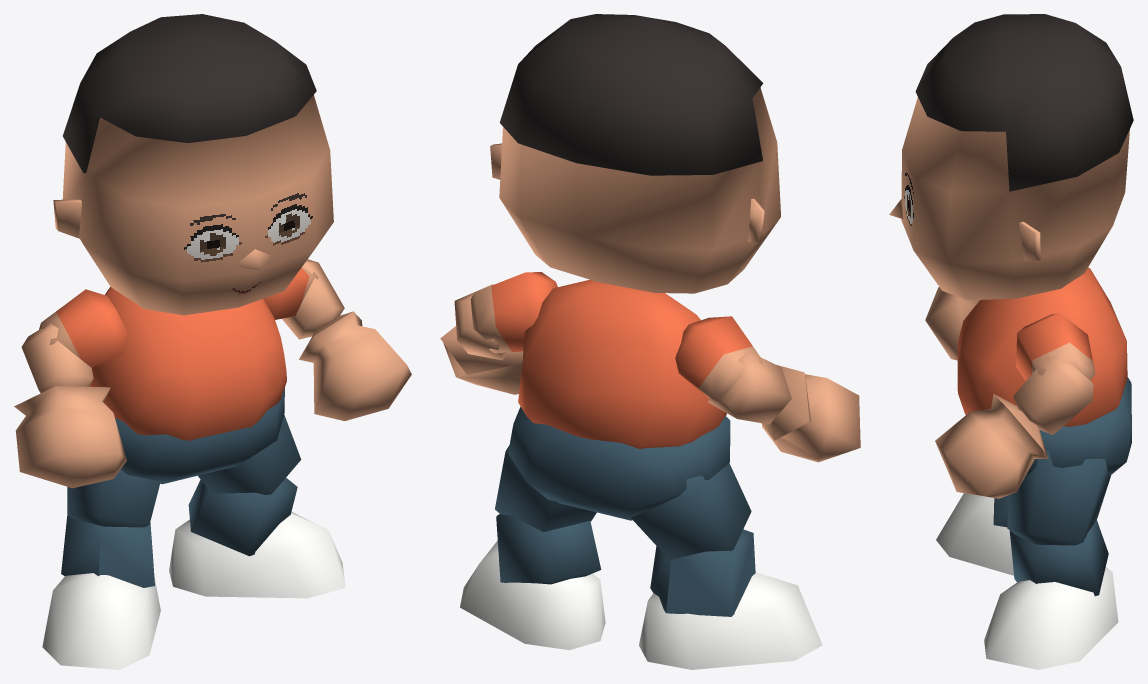
3 renders of one model, left to right at view 1: azimuth 30°, elevation 25°; view 2: azimuth 150°, elevation 25°; view 3: azimuth 270°, elevation 25°, orthographic. The views are drawn at different scales.
Parts seen in each view (by area): view 1: Character; view 2: Character; view 3: Character.
Part boxes in pixels (x1=…): Character: x1=14, y1=14, x2=411, y2=669; Character: x1=440, y1=14, x2=860, y2=669; Character: x1=889, y1=14, x2=1133, y2=669.
Bounding box in the file's own units: 1.98 × 2.76 × 1.08.
9 materials, 2 textured.
